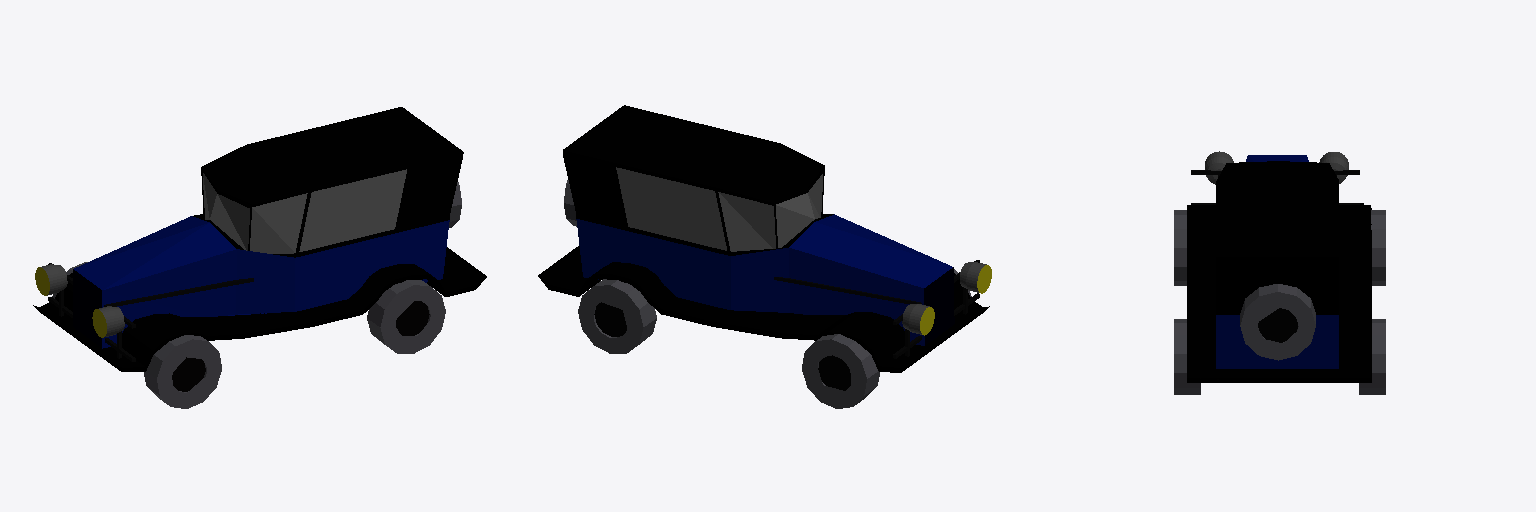
File: Ford_T.obj
3 renders of one model, left to right at view 1: azimuth 30°, elevation 25°; view 2: azimuth 150°, elevation 25°; view 3: azimuth 270°, elevation 25°, orthographic.
Parts seen in each view (by area): view 1: Front_Wheels_Cylinder.002; view 2: Front_Wheels_Cylinder.002; view 3: Front_Wheels_Cylinder.002.
Boxes of the visible parts, x1=… form: Front_Wheels_Cylinder.002: x1=33, y1=107, x2=486, y2=408; Front_Wheels_Cylinder.002: x1=538, y1=105, x2=991, y2=408; Front_Wheels_Cylinder.002: x1=1174, y1=151, x2=1385, y2=394.
Bounding box in the file's own units: 4.67 × 2.03 × 2.3.